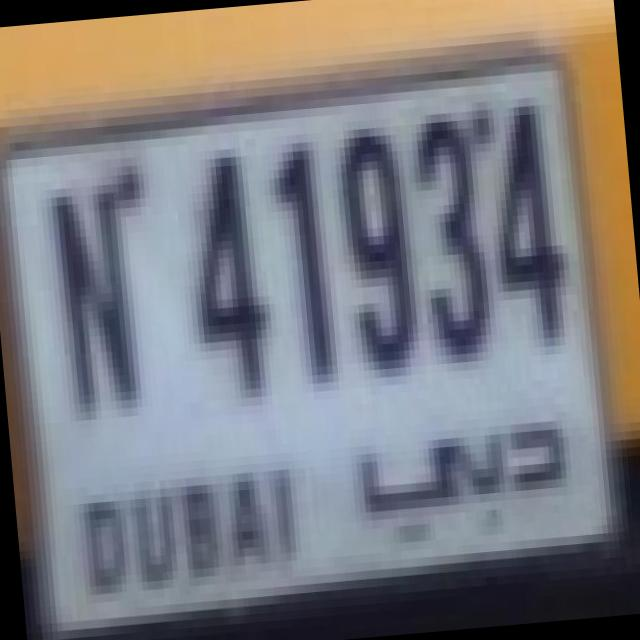1: (253, 116, 344, 387)
3: (392, 94, 493, 366)
4: (155, 130, 272, 403), (464, 78, 580, 351)
9: (320, 109, 421, 381)
N: (21, 148, 164, 423)
